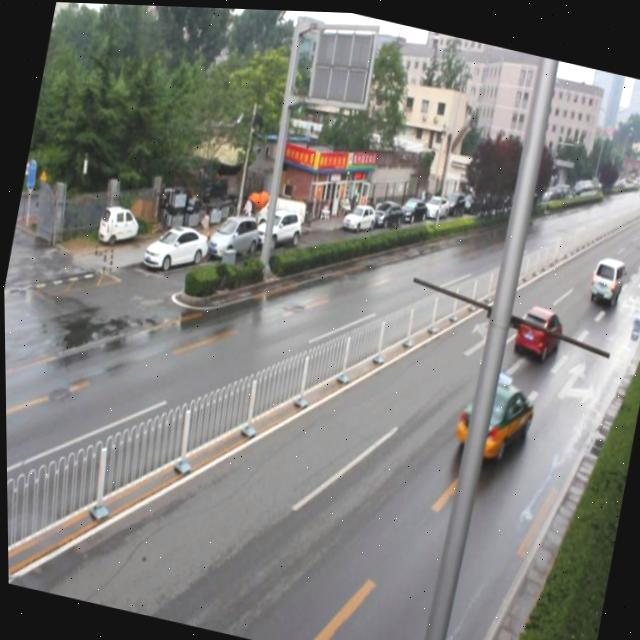car: (452, 362, 536, 458), (508, 294, 566, 357)
truck: (582, 246, 627, 300)
